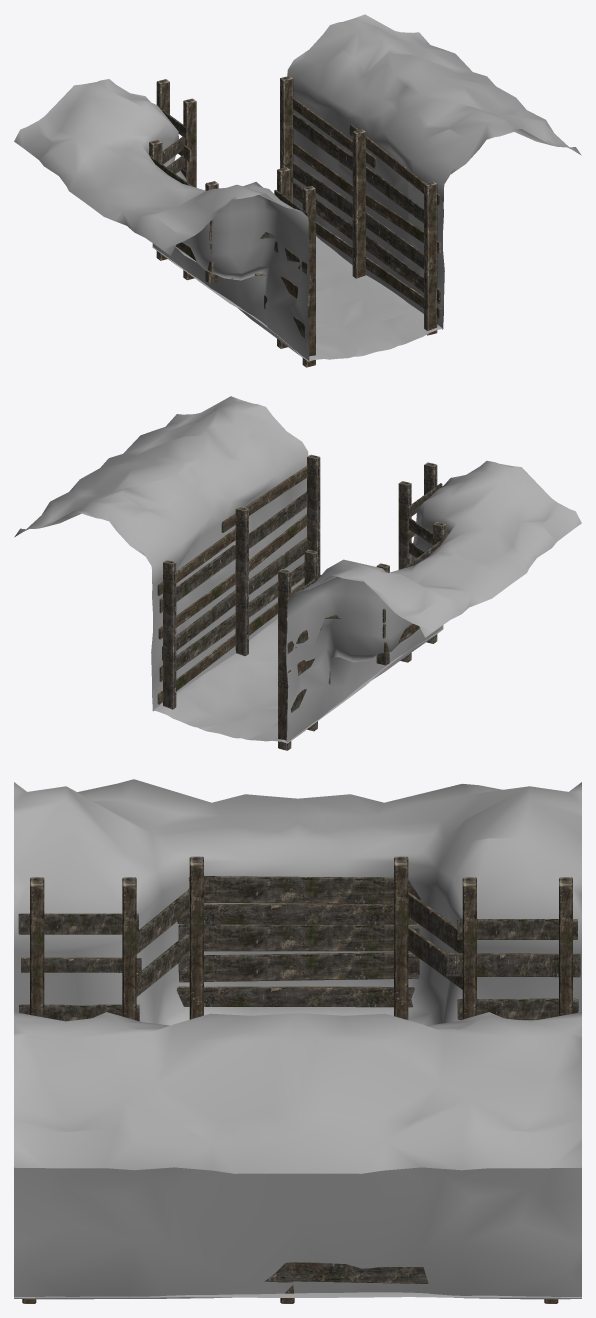
File: Ground_Firebay_Wood_B.fbx
The picture shows the model from 3 angles, top to bottom: view 1: azimuth 30°, elevation 25°; view 2: azimuth 150°, elevation 25°; view 3: azimuth 270°, elevation 25°; orthographic projection. The views are drawn at different scales.
Parts seen in each view (by area): view 1: Ground_Firebay_Wood_B_LOD0; view 2: Ground_Firebay_Wood_B_LOD0; view 3: Ground_Firebay_Wood_B_LOD0.
Boxes of the visible parts, x1,y1,x2,y2 form: Ground_Firebay_Wood_B_LOD0: [14, 14, 581, 367]; Ground_Firebay_Wood_B_LOD0: [14, 396, 581, 750]; Ground_Firebay_Wood_B_LOD0: [14, 779, 581, 1303].
Size of what is drawn, in the model's own units: 627 by 269 by 400.
